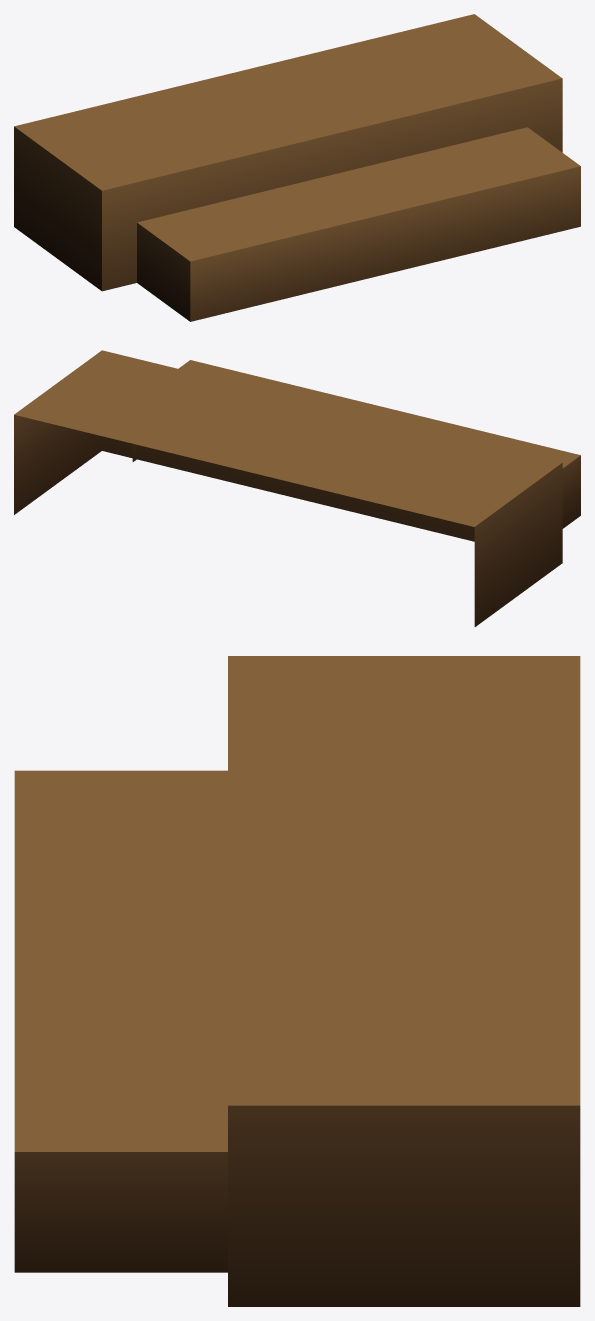
The model's file is Stairs_07A.fbx.
The picture shows the model from 3 angles, top to bottom: view 1: azimuth 30°, elevation 25°; view 2: azimuth 150°, elevation 25°; view 3: azimuth 270°, elevation 25°; orthographic projection. The views are drawn at different scales.
Parts seen in each view (by area): view 1: Stairs_07A; view 2: Stairs_07A; view 3: Stairs_07A.
Boxes of the visible parts, x1,y1,x2,y2 form: Stairs_07A: [14, 14, 580, 321]; Stairs_07A: [14, 350, 580, 626]; Stairs_07A: [14, 656, 580, 1306].
Size of the model in its own units: 152 by 31.66 by 80.66.
1 material, 1 textured.
